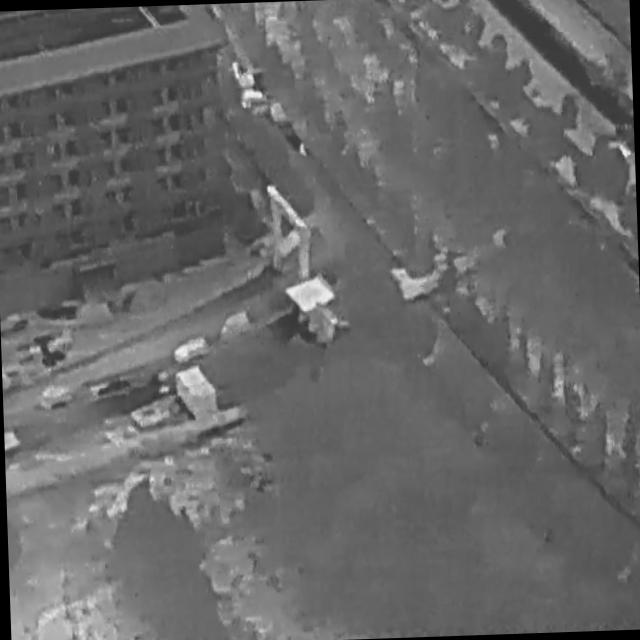person: (300, 142, 308, 156)
